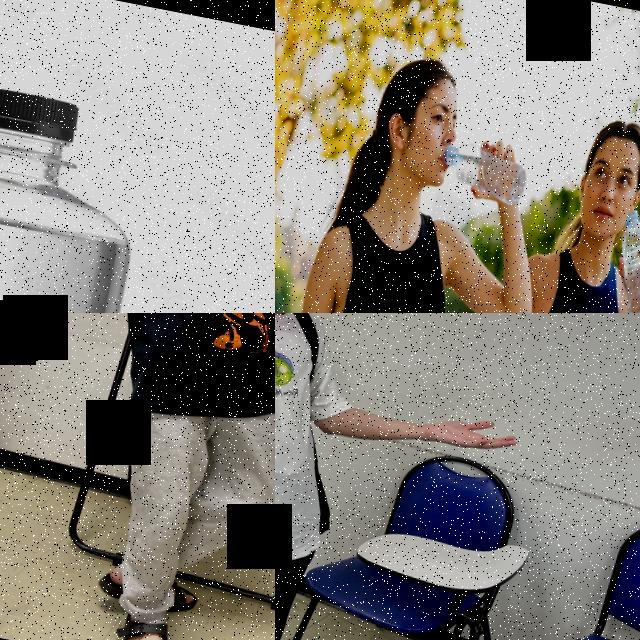bottle: (0, 65, 161, 313), (437, 141, 532, 208), (602, 203, 640, 313)
